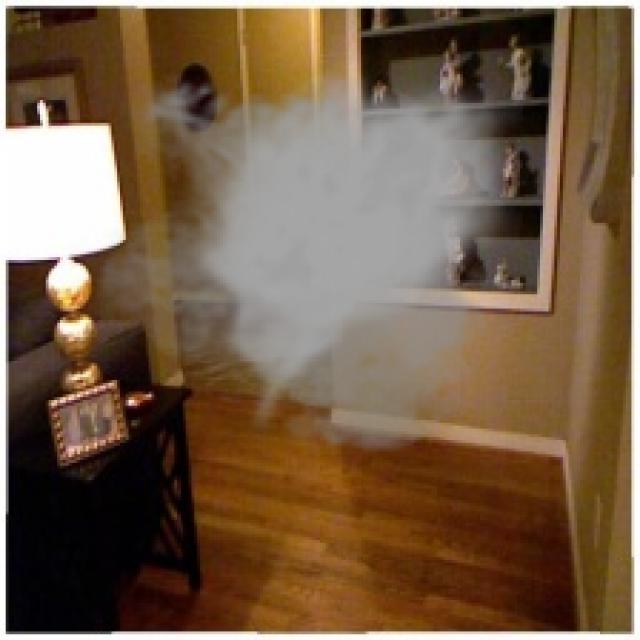smoke: (97, 69, 523, 457)
